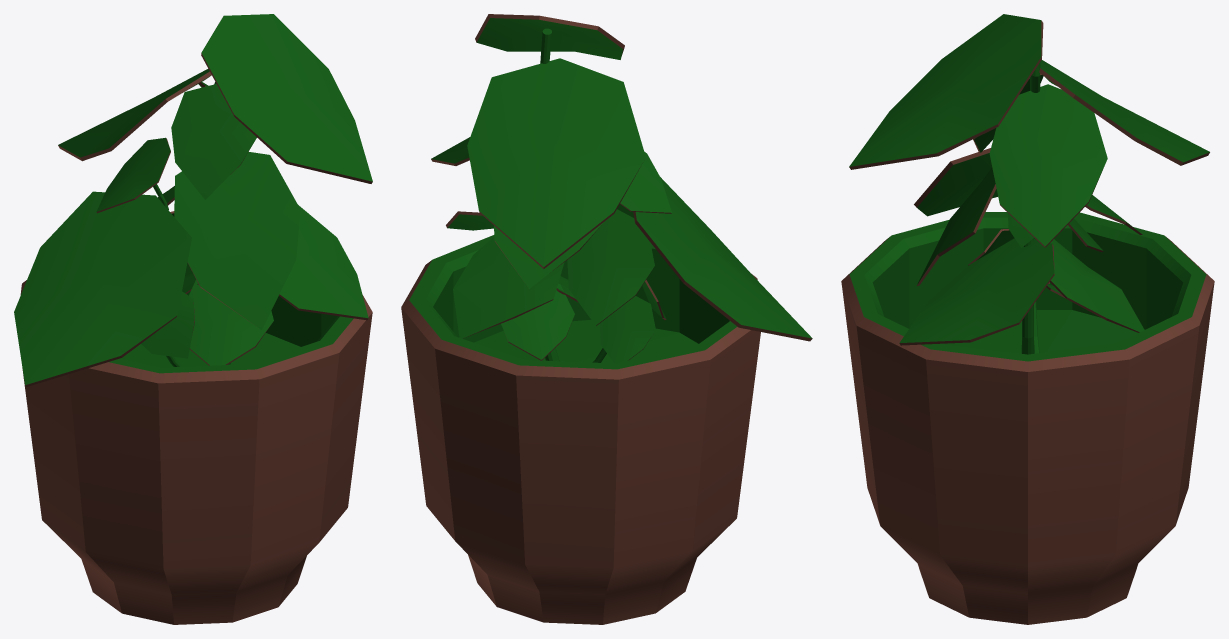
Rendered from FlowerPot_Text.fbx.
3 renders of one model, left to right at view 1: azimuth 30°, elevation 25°; view 2: azimuth 150°, elevation 25°; view 3: azimuth 270°, elevation 25°, orthographic. The views are drawn at different scales.
Visible parts, largest first — view 1: Plante; view 2: Plante; view 3: Plante.
Part boxes in pixels (<box>): Plante: <box>14,14,372,624</box>; Plante: <box>401,14,812,624</box>; Plante: <box>841,14,1214,624</box>.
Size of the model in its own units: 78.94 by 118 by 69.29.
Materials: 1 (1 with a texture image).
